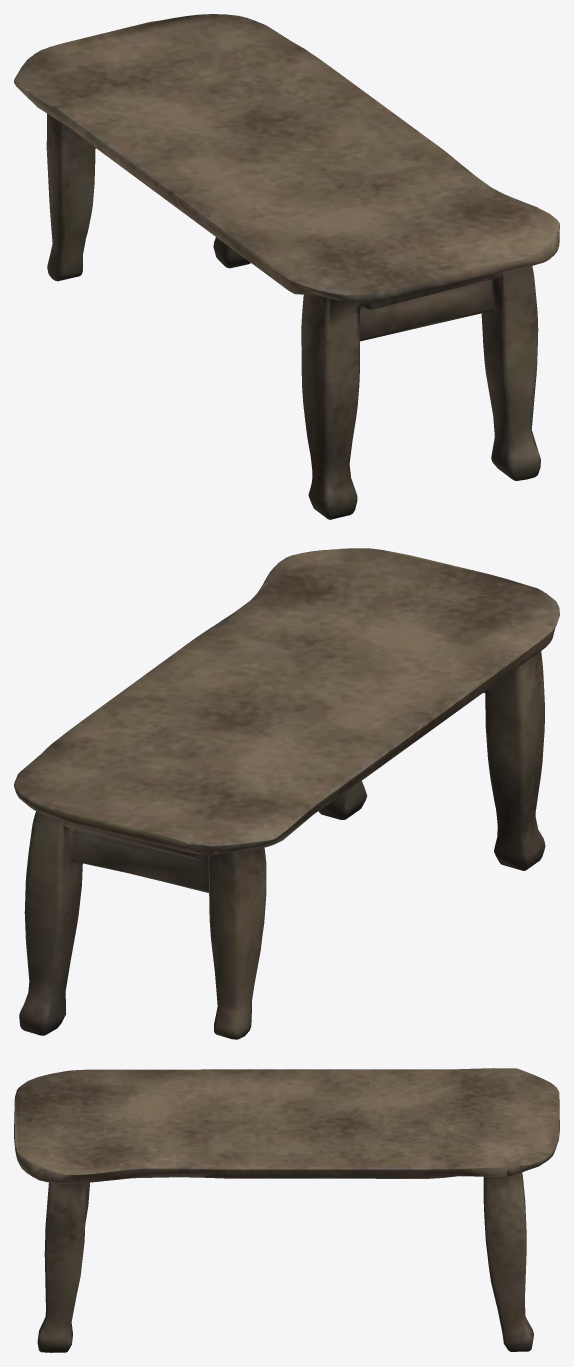
The model's file is plain-wood-banquet-table-v001.glb.
3 views of the same model, one above another, from view 1: azimuth 30°, elevation 25°; view 2: azimuth 150°, elevation 25°; view 3: azimuth 270°, elevation 25° (orthographic). The views are drawn at different scales.
Visible parts, largest first — view 1: plain-wood-banquet-table; view 2: plain-wood-banquet-table; view 3: plain-wood-banquet-table.
Boxes of the visible parts, box(x1,y1,x2,y2) form: plain-wood-banquet-table: box(14, 14, 559, 519); plain-wood-banquet-table: box(14, 548, 559, 1039); plain-wood-banquet-table: box(14, 1068, 559, 1352).
Size of the model in its own units: 0.946 by 0.8091 by 2.05.
1 material, 1 textured.
